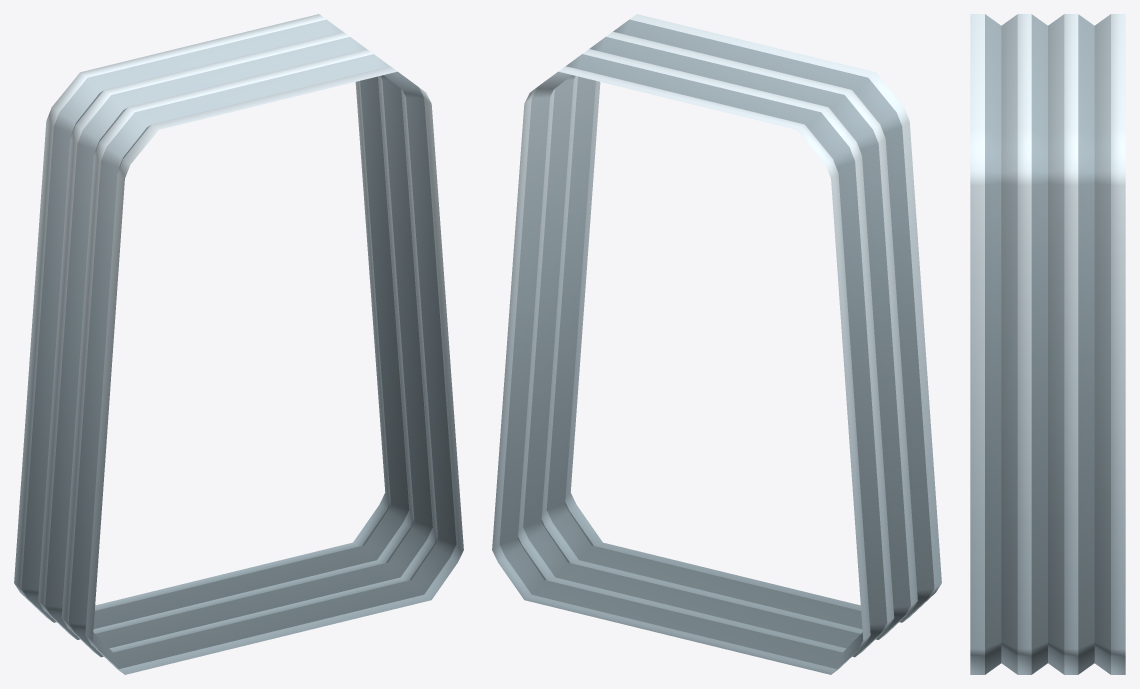
File: tram_bridge_001.glb
3 views of the same model, side by side, from view 1: azimuth 30°, elevation 25°; view 2: azimuth 150°, elevation 25°; view 3: azimuth 270°, elevation 25° (orthographic).
Parts seen in each view (by area): view 1: tram_bridge_001; view 2: tram_bridge_001; view 3: tram_bridge_001.
Part boxes in pixels (<box>): tram_bridge_001: <box>14,14,463,674</box>; tram_bridge_001: <box>492,14,941,674</box>; tram_bridge_001: <box>970,14,1125,674</box>.
Bounding box in the file's own units: 2.26 × 3.12 × 0.8287.
1 material, 1 textured.
